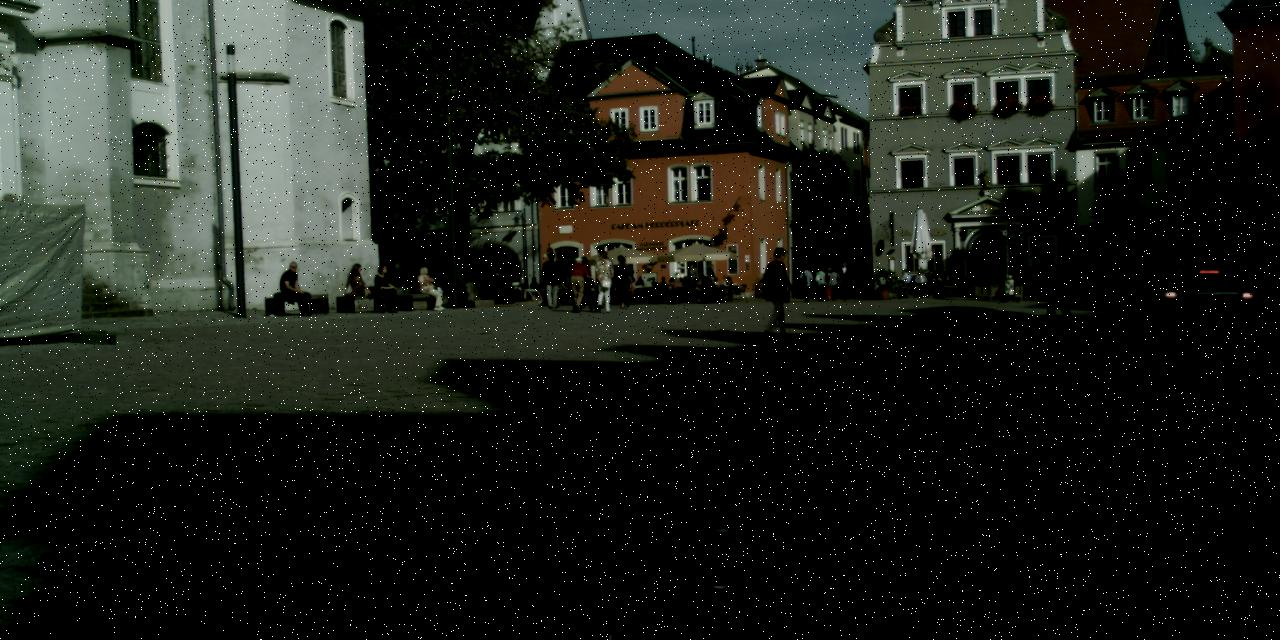ped: (636, 264, 732, 304), (760, 247, 796, 335), (1041, 259, 1069, 327), (591, 250, 615, 310), (566, 256, 589, 312), (540, 252, 562, 307), (612, 254, 632, 307), (574, 256, 594, 306), (836, 260, 851, 300), (821, 266, 835, 300), (814, 267, 828, 301), (800, 265, 814, 299), (828, 269, 839, 299), (612, 282, 618, 292)
